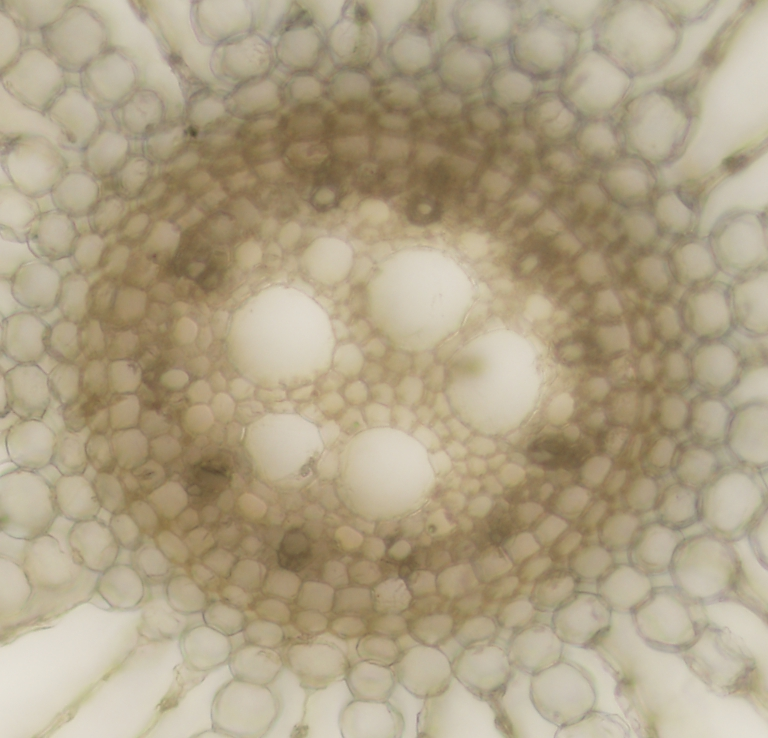lm: (366, 243, 473, 354), (226, 284, 336, 391), (447, 329, 544, 437), (334, 425, 437, 524), (241, 413, 324, 486), (300, 235, 354, 285)
